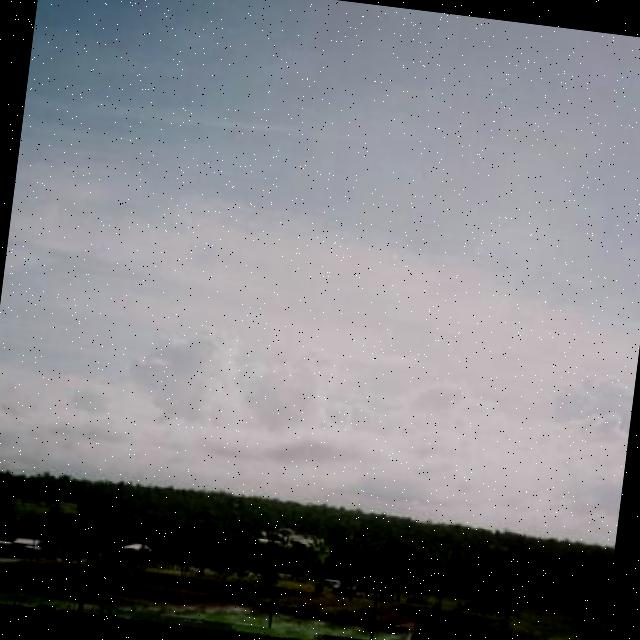Cs: (1, 48, 640, 482)
